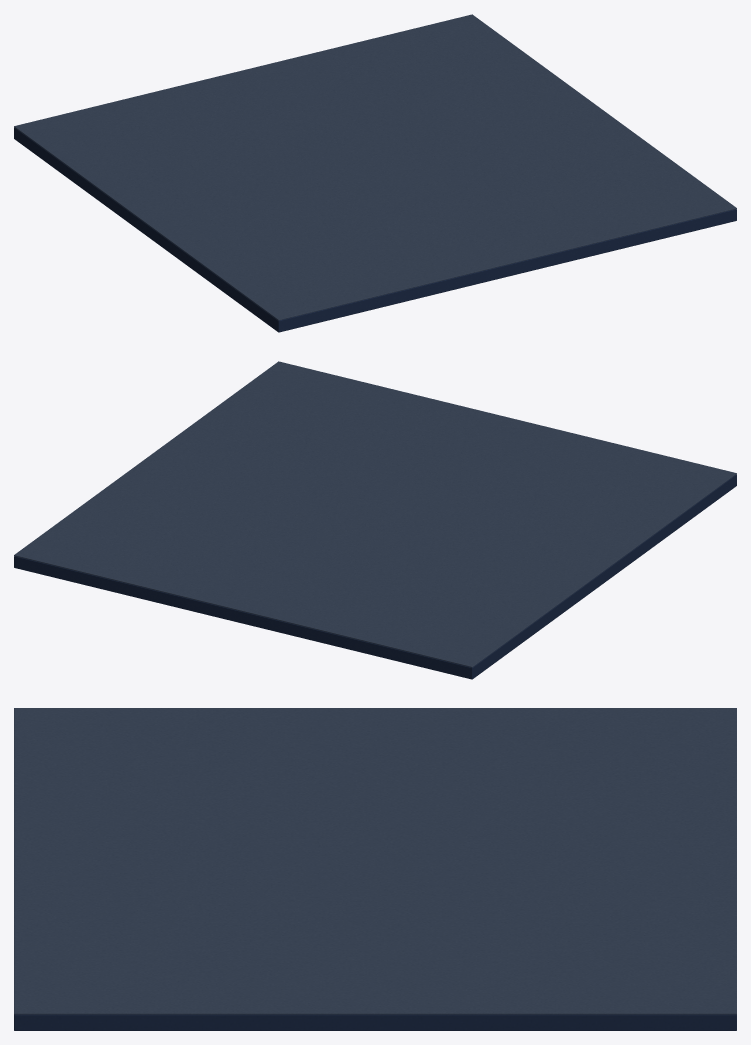
The model's file is 22_carpet_floor_tile.glb.
The picture shows the model from 3 angles, top to bottom: view 1: azimuth 30°, elevation 25°; view 2: azimuth 150°, elevation 25°; view 3: azimuth 270°, elevation 25°; orthographic projection. The views are drawn at different scales.
Parts seen in each view (by area): view 1: 22_carpet_floor_tile__carpet_top, 22_carpet_floor_tile__thin_floor_slab; view 2: 22_carpet_floor_tile__carpet_top, 22_carpet_floor_tile__thin_floor_slab; view 3: 22_carpet_floor_tile__carpet_top, 22_carpet_floor_tile__thin_floor_slab.
Part boxes in pixels (x1,y1,x2,y2): 22_carpet_floor_tile__carpet_top: (14,14,736,320); 22_carpet_floor_tile__thin_floor_slab: (14,127,736,332); 22_carpet_floor_tile__carpet_top: (14,361,736,667); 22_carpet_floor_tile__thin_floor_slab: (14,474,736,679); 22_carpet_floor_tile__carpet_top: (14,708,736,1014); 22_carpet_floor_tile__thin_floor_slab: (14,1014,736,1030).
Bounding box in the file's own units: 2 × 0.054 × 2.
Materials: 2 (2 with a texture image).
